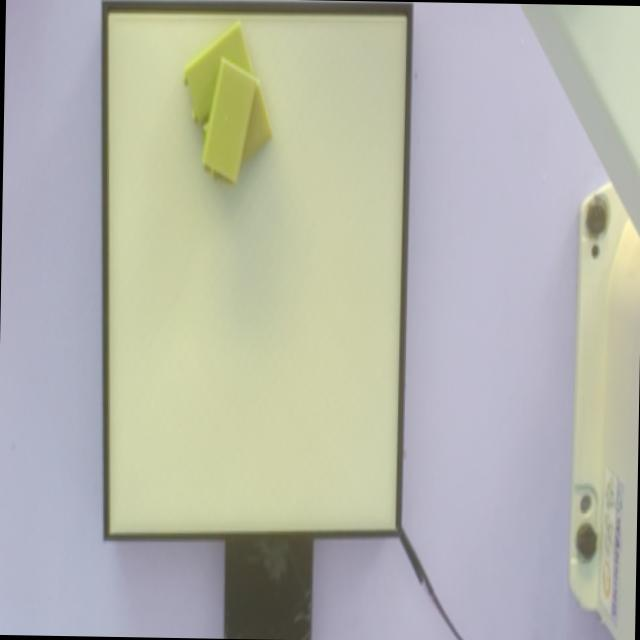bateria: (200, 57, 258, 187)
mesa: (101, 3, 412, 539)
